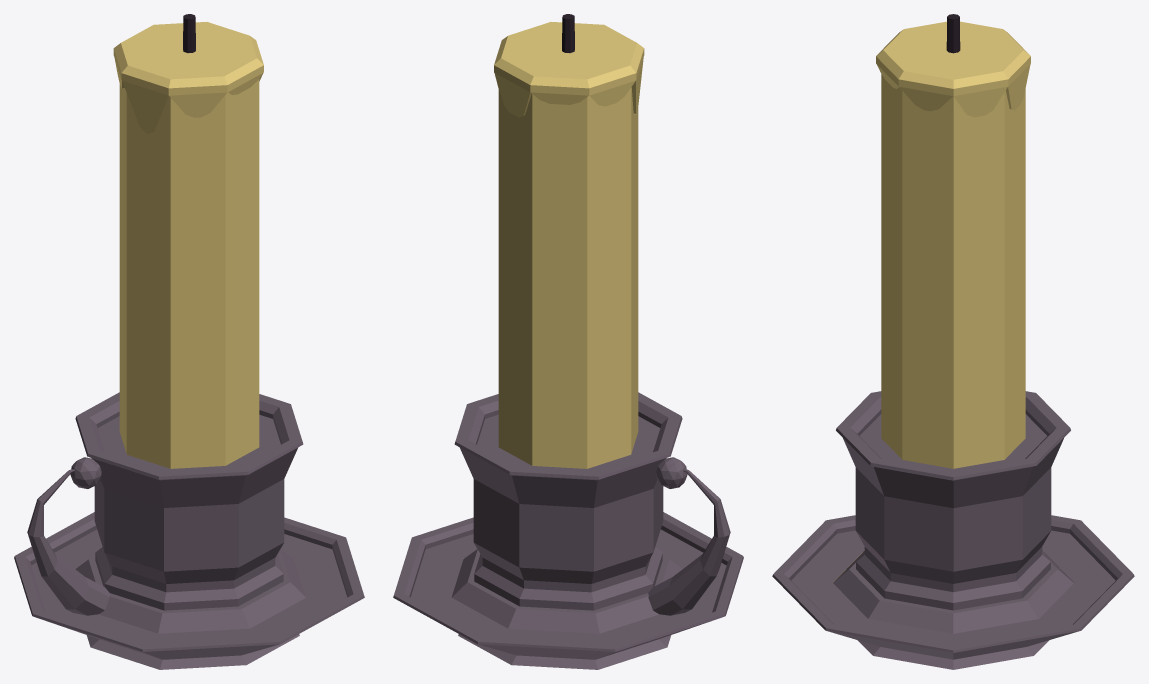
Rendered from Candle.fbx.
The picture shows the model from 3 angles, left to right: view 1: azimuth 30°, elevation 25°; view 2: azimuth 150°, elevation 25°; view 3: azimuth 270°, elevation 25°; orthographic projection.
Parts seen in each view (by area): view 1: Candle Unlit; view 2: Candle Unlit; view 3: Candle Unlit.
Boxes of the visible parts, x1,y1,x2,y2 form: Candle Unlit: (14,14,364,669); Candle Unlit: (393,14,743,669); Candle Unlit: (772,14,1134,669).
Bounding box in the file's own units: 13.18 × 23.99 × 13.01.
